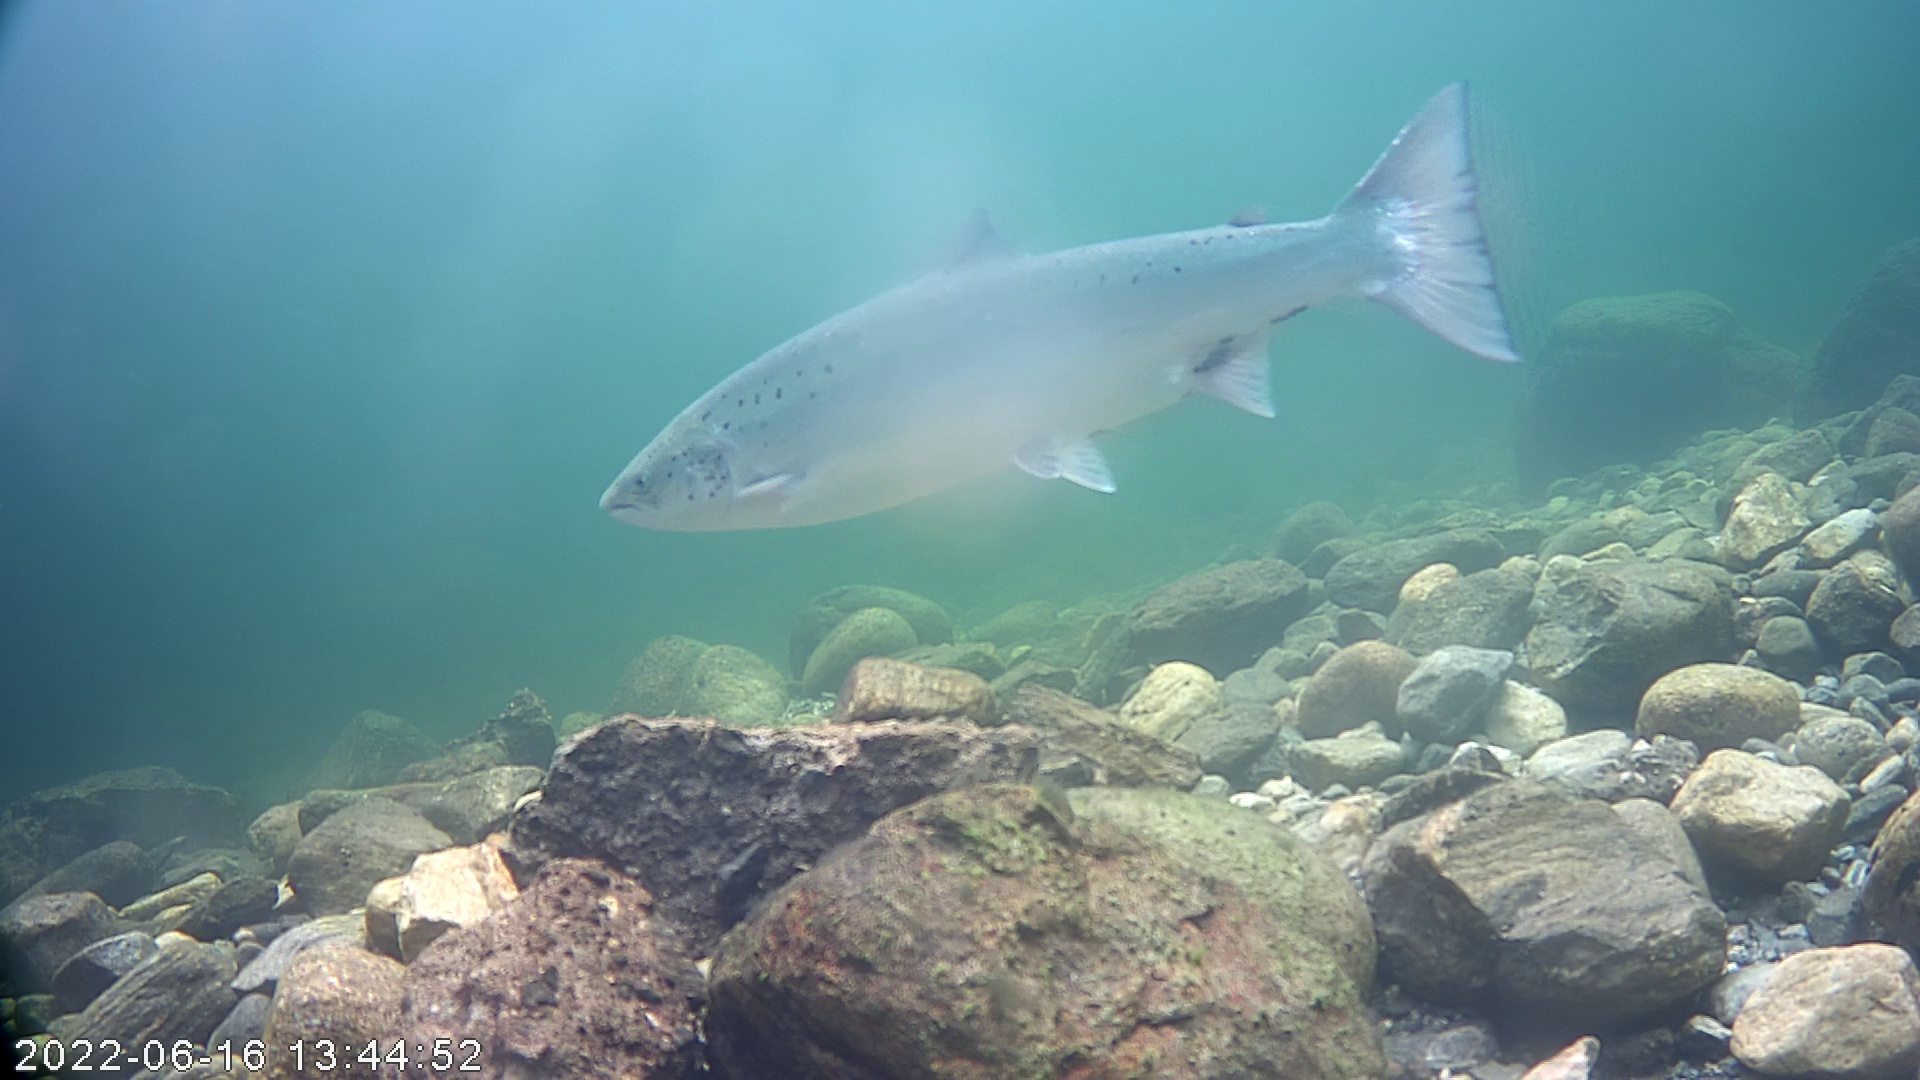salmon: (595, 73, 1526, 539)
